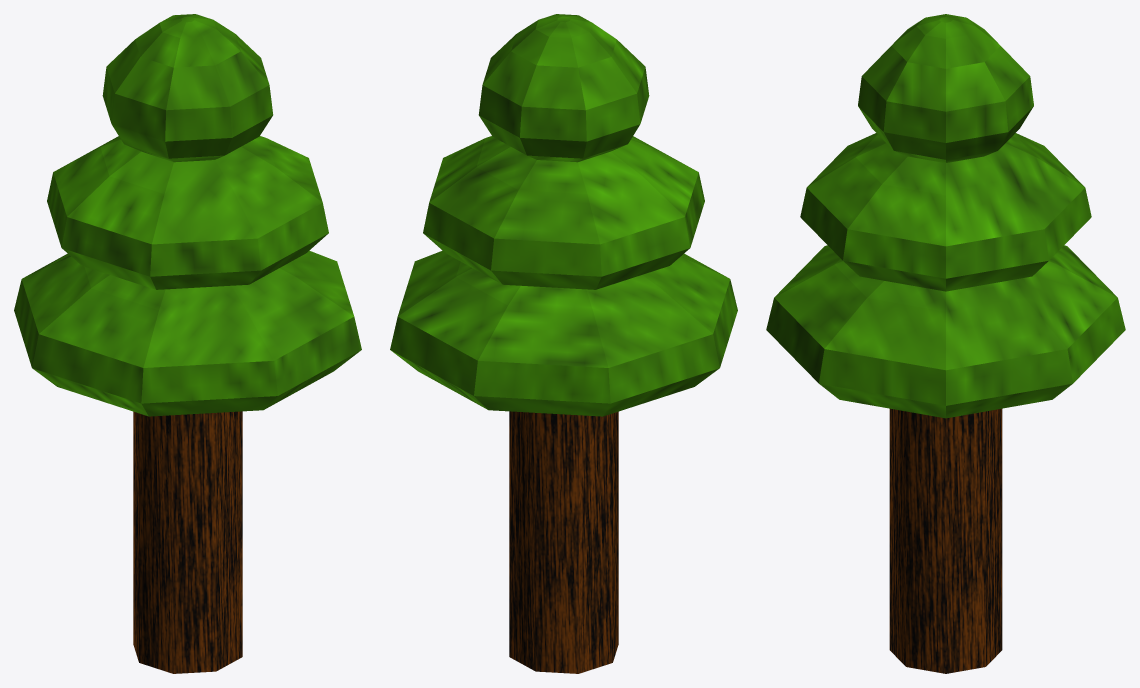
Rendered from Tree.FBX.
3 renders of one model, left to right at view 1: azimuth 30°, elevation 25°; view 2: azimuth 150°, elevation 25°; view 3: azimuth 270°, elevation 25°, orthographic.
Parts seen in each view (by area): view 1: Cylinder001; view 2: Cylinder001; view 3: Cylinder001.
Boxes of the visible parts, <box> form: Cylinder001: <box>14,14,361,673</box>; Cylinder001: <box>390,14,737,673</box>; Cylinder001: <box>766,14,1125,673</box>.
Bounding box in the file's own units: 120 × 232 × 120.
1 material, 1 textured.
